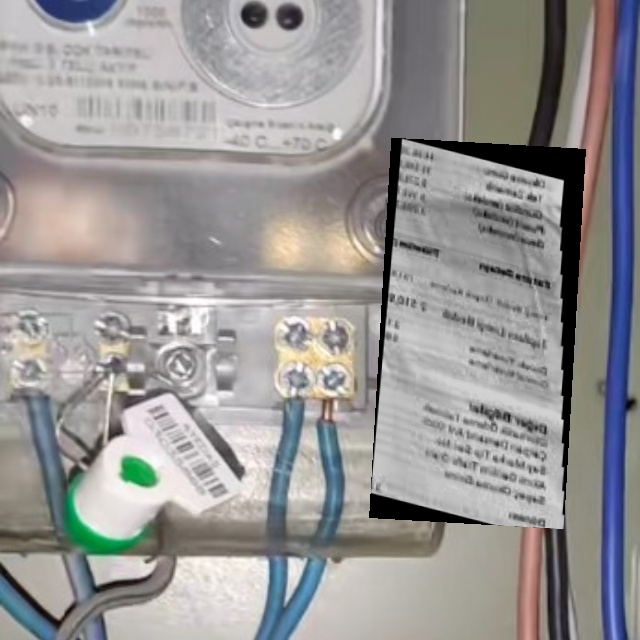electricity-bill: (369, 137, 586, 528)
